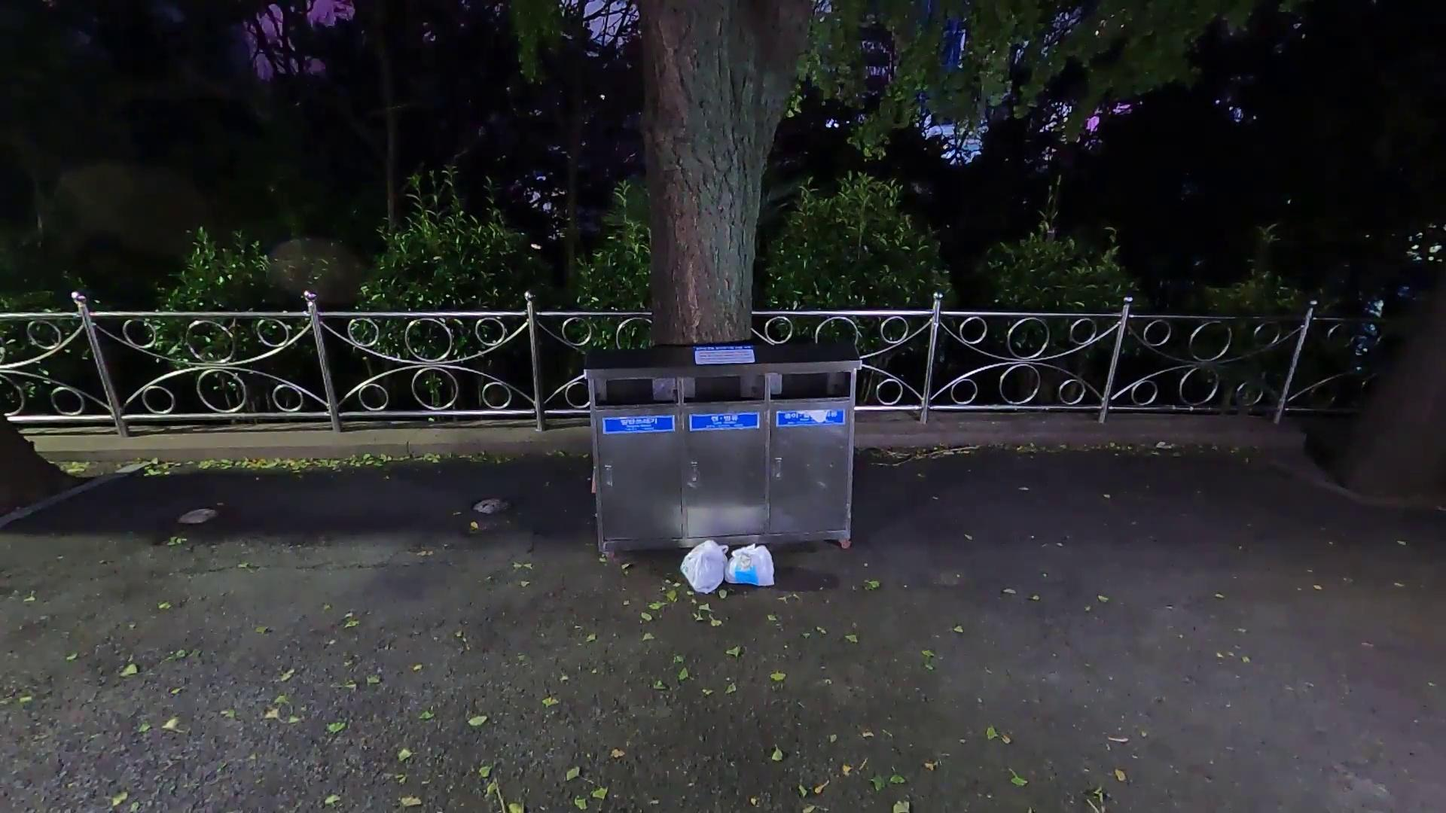trash: (681, 539, 730, 591), (725, 543, 778, 588)
